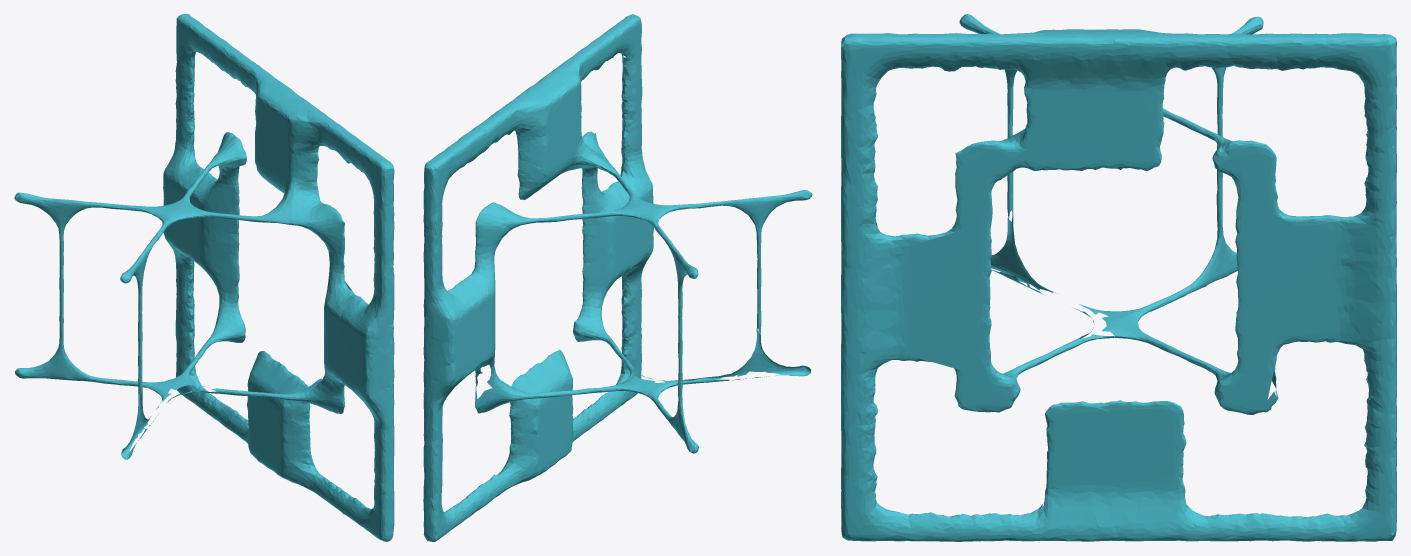
The picture shows the model from 3 angles, left to right: view 1: azimuth 30°, elevation 25°; view 2: azimuth 150°, elevation 25°; view 3: azimuth 270°, elevation 25°; orthographic projection. The views are drawn at different scales.
Visible parts, largest first — view 1: Renderer Node; view 2: Renderer Node; view 3: Renderer Node.
Part boxes in pixels (<box>): Renderer Node: <box>14,14,394,541</box>; Renderer Node: <box>423,14,812,541</box>; Renderer Node: <box>841,14,1396,541</box>.
Size of the model in its own units: 0.4075 by 0.6443 by 0.6443.
Materials: 1 (1 with a texture image).
